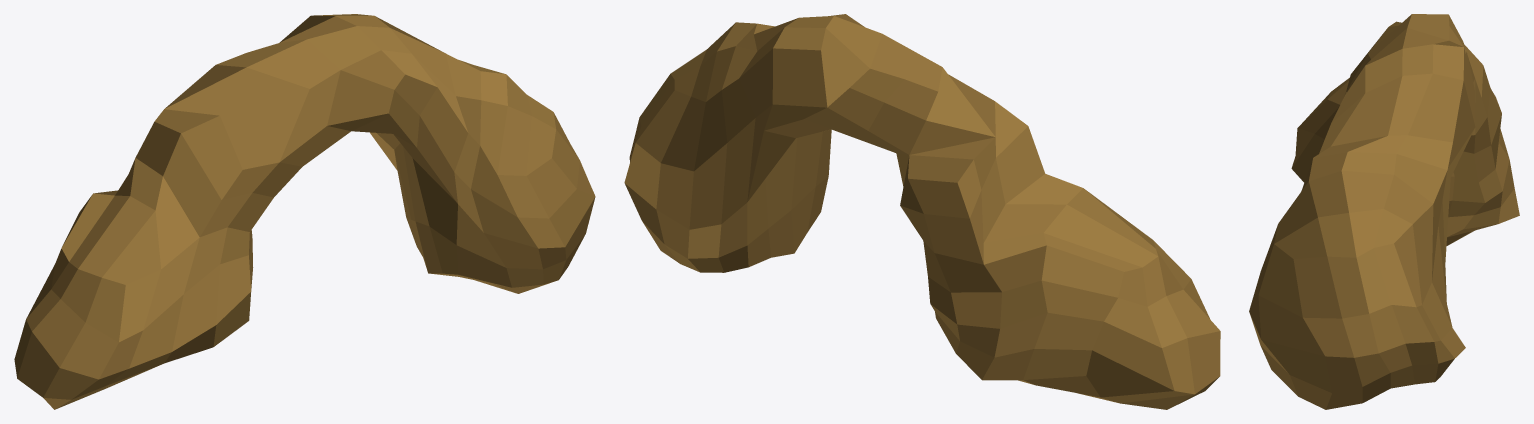
File: WaterRockArc.fbx
3 views of the same model, side by side, from view 1: azimuth 30°, elevation 25°; view 2: azimuth 150°, elevation 25°; view 3: azimuth 270°, elevation 25° (orthographic). The views are drawn at different scales.
Visible parts, largest first — view 1: Water Rock Arc; view 2: Water Rock Arc; view 3: Water Rock Arc.
Boxes of the visible parts, <box> form: Water Rock Arc: <box>14,14,595,409</box>; Water Rock Arc: <box>624,14,1220,409</box>; Water Rock Arc: <box>1249,14,1519,409</box>.
Size of the model in its own units: 10.66 by 5.52 by 4.32.
